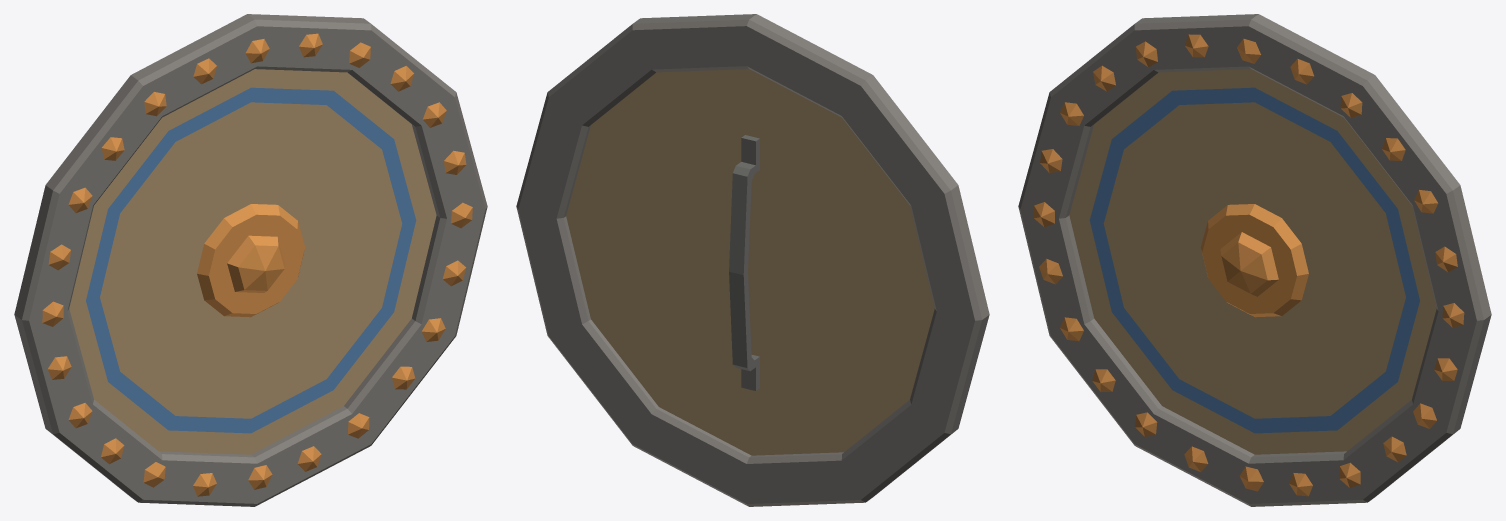
The model's file is SM_pwe_rome_shield_04.fbx.
3 views of the same model, side by side, from view 1: azimuth 30°, elevation 25°; view 2: azimuth 150°, elevation 25°; view 3: azimuth 330°, elevation 25° (orthographic).
Parts seen in each view (by area): view 1: SM_pwe_rome_shield_04; view 2: SM_pwe_rome_shield_04; view 3: SM_pwe_rome_shield_04.
Part boxes in pixels (bbox=[...]): SM_pwe_rome_shield_04: bbox=[14, 14, 487, 506]; SM_pwe_rome_shield_04: bbox=[516, 14, 989, 506]; SM_pwe_rome_shield_04: bbox=[1018, 14, 1491, 506].
Bounding box in the file's own units: 70.69 × 70.69 × 8.37.
